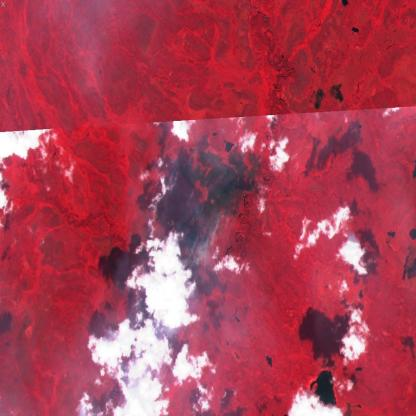fire: (164, 126, 259, 278)
